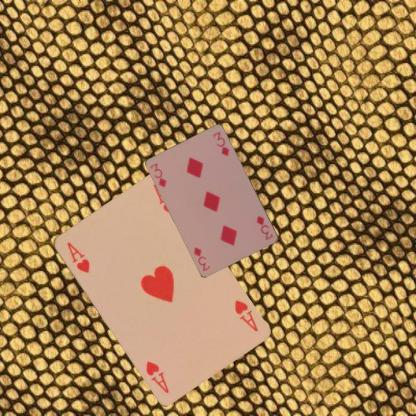3d: (254, 213, 274, 242), (148, 160, 168, 189)
Ah: (231, 297, 259, 333), (64, 240, 90, 274)
